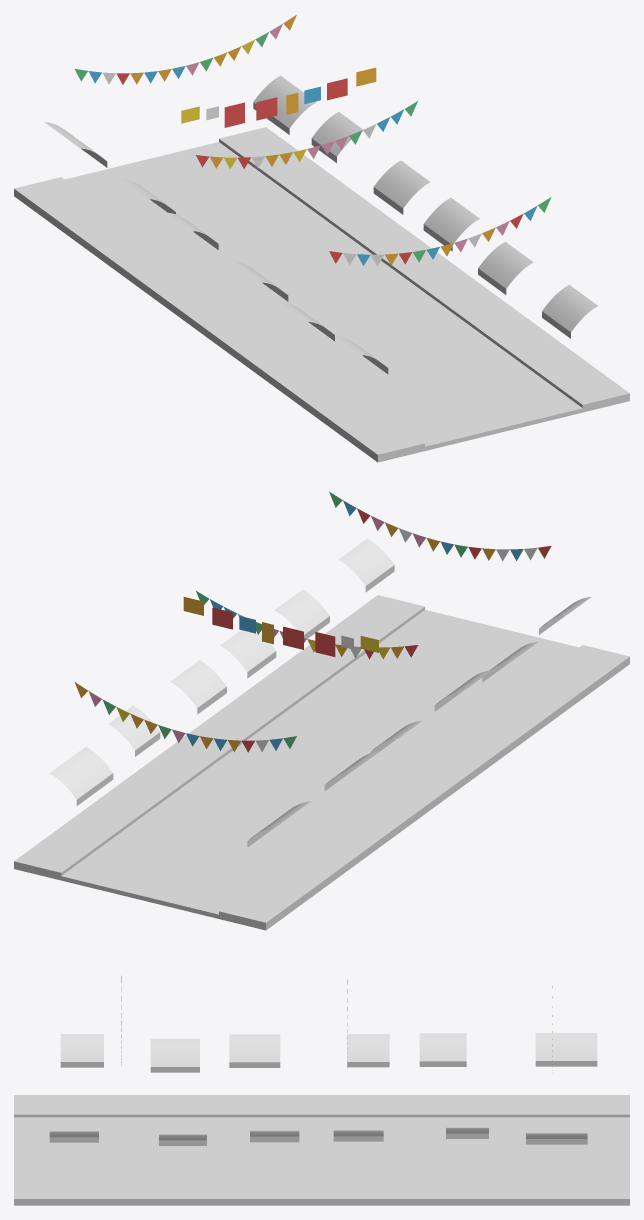
Rendered from Harita_04_Mahalle_Karpuz_Pazari_Ozel.fbx.
3 views of the same model, one above another, from view 1: azimuth 30°, elevation 25°; view 2: azimuth 150°, elevation 25°; view 3: azimuth 270°, elevation 25° (orthographic). The views are drawn at different scales.
Visible parts, largest first — view 1: Harita_04_Yol.001, Harita_04_Kaldirim_L.001, Harita_04_Kaldirim_R.001, Camasirlar.010, Tente.158, Tente.155, Tente.157, Tente.156, Bayraklar.039, Bayraklar.038, Bayraklar.040, Tente.160 (+1 smaller); view 2: Harita_04_Yol.001, Harita_04_Kaldirim_L.001, Harita_04_Kaldirim_R.001, Camasirlar.010, Tente.160, Tente.158, Tente.155, Bayraklar.038, Bayraklar.040, Tente.156, Tente.157, Tente.159 (+1 smaller); view 3: Harita_04_Yol.001, Harita_04_Kaldirim_R.001, Harita_04_Kaldirim_L.001, Tente.154, Tente.151, Tente.150, Tente.153, Tente.149, Tente.152, Tente.160, Tente.157, Tente.158 (+3 smaller).
Part boxes in pixels (x1=…): Harita_04_Yol.001: x1=65, y1=142, x2=582, y2=450; Harita_04_Kaldirim_L.001: x1=14, y1=177, x2=424, y2=462; Harita_04_Kaldirim_R.001: x1=219, y1=127, x2=629, y2=412; Camasirlar.010: x1=181, y1=67, x2=376, y2=127; Tente.158: x1=373, y1=160, x2=430, y2=214; Tente.155: x1=542, y1=285, x2=597, y2=338; Tente.157: x1=423, y1=198, x2=479, y2=251; Tente.156: x1=478, y1=242, x2=533, y2=294; Bayraklar.039: x1=196, y1=101, x2=417, y2=168; Bayraklar.038: x1=329, y1=197, x2=551, y2=265; Bayraklar.040: x1=75, y1=14, x2=296, y2=84; Tente.160: x1=253, y1=75, x2=316, y2=134; Harita_04_Yol.001: x1=61, y1=610, x2=578, y2=918; Harita_04_Kaldirim_L.001: x1=219, y1=645, x2=629, y2=930; Harita_04_Kaldirim_R.001: x1=14, y1=595, x2=424, y2=880; Camasirlar.010: x1=183, y1=597, x2=378, y2=656; Tente.160: x1=49, y1=747, x2=113, y2=805; Tente.158: x1=170, y1=660, x2=226, y2=714; Tente.155: x1=338, y1=538, x2=394, y2=592; Bayraklar.038: x1=329, y1=491, x2=551, y2=561; Bayraklar.040: x1=74, y1=682, x2=296, y2=752; Tente.156: x1=274, y1=589, x2=329, y2=638; Tente.157: x1=220, y1=630, x2=276, y2=678; Tente.159: x1=108, y1=705, x2=160, y2=756; Harita_04_Yol.001: x1=14, y1=1117, x2=629, y2=1179; Harita_04_Kaldirim_R.001: x1=14, y1=1179, x2=629, y2=1205; Harita_04_Kaldirim_L.001: x1=14, y1=1095, x2=629, y2=1117; Tente.154: x1=535, y1=1033, x2=597, y2=1066; Tente.151: x1=229, y1=1034, x2=280, y2=1067; Tente.150: x1=150, y1=1039, x2=199, y2=1072; Tente.153: x1=419, y1=1033, x2=466, y2=1066; Tente.149: x1=60, y1=1034, x2=103, y2=1067; Tente.152: x1=347, y1=1034, x2=389, y2=1067; Tente.160: x1=526, y1=1133, x2=587, y2=1144; Tente.157: x1=250, y1=1130, x2=299, y2=1142; Tente.158: x1=333, y1=1130, x2=383, y2=1141.
Bounding box in the file's own units: 12 × 8.24 × 30.
